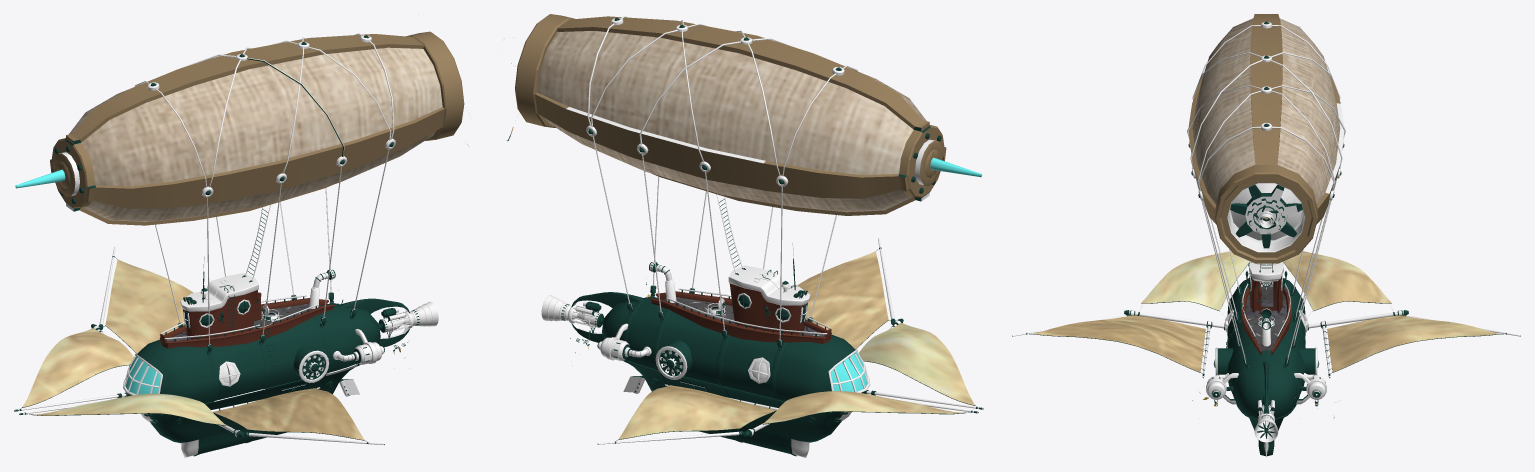
File: zeppelin_base.obj
3 views of the same model, side by side, from view 1: azimuth 30°, elevation 25°; view 2: azimuth 150°, elevation 25°; view 3: azimuth 270°, elevation 25° (orthographic). The views are drawn at different scales.
Visible parts, largest first — view 1: zeppelin_sin_texturas_Material.001; view 2: zeppelin_sin_texturas_Material.001; view 3: zeppelin_sin_texturas_Material.001.
Part boxes in pixels (<box>): zeppelin_sin_texturas_Material.001: <box>14,14,470,457</box>; zeppelin_sin_texturas_Material.001: <box>503,14,983,457</box>; zeppelin_sin_texturas_Material.001: <box>1012,14,1520,457</box>.
Bounding box in the file's own units: 16.67 × 14.3 × 17.95.
